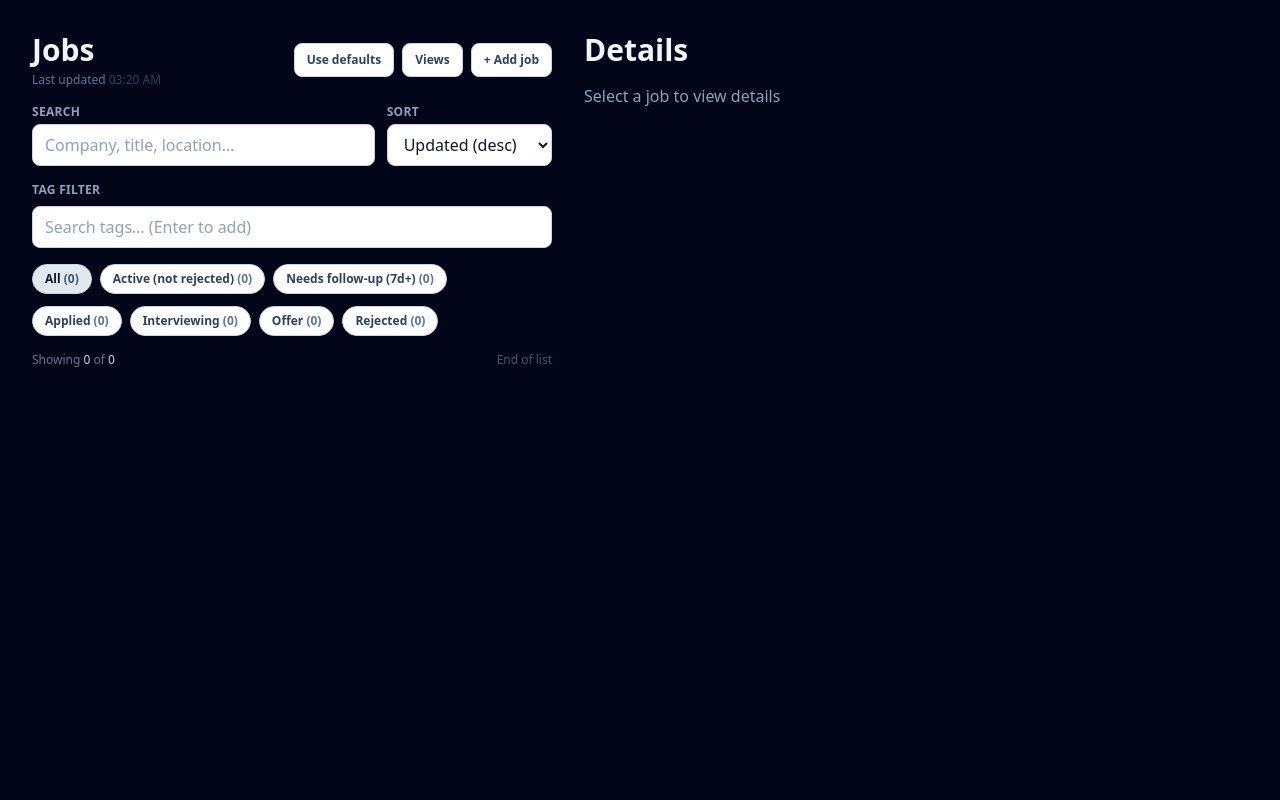
Test case: JobsPage (create job) › shows toast error and keeps modal open on create failure
Click the button "+ Add job".
click(511, 60)  # box x1=471 y1=43 x2=552 y2=77
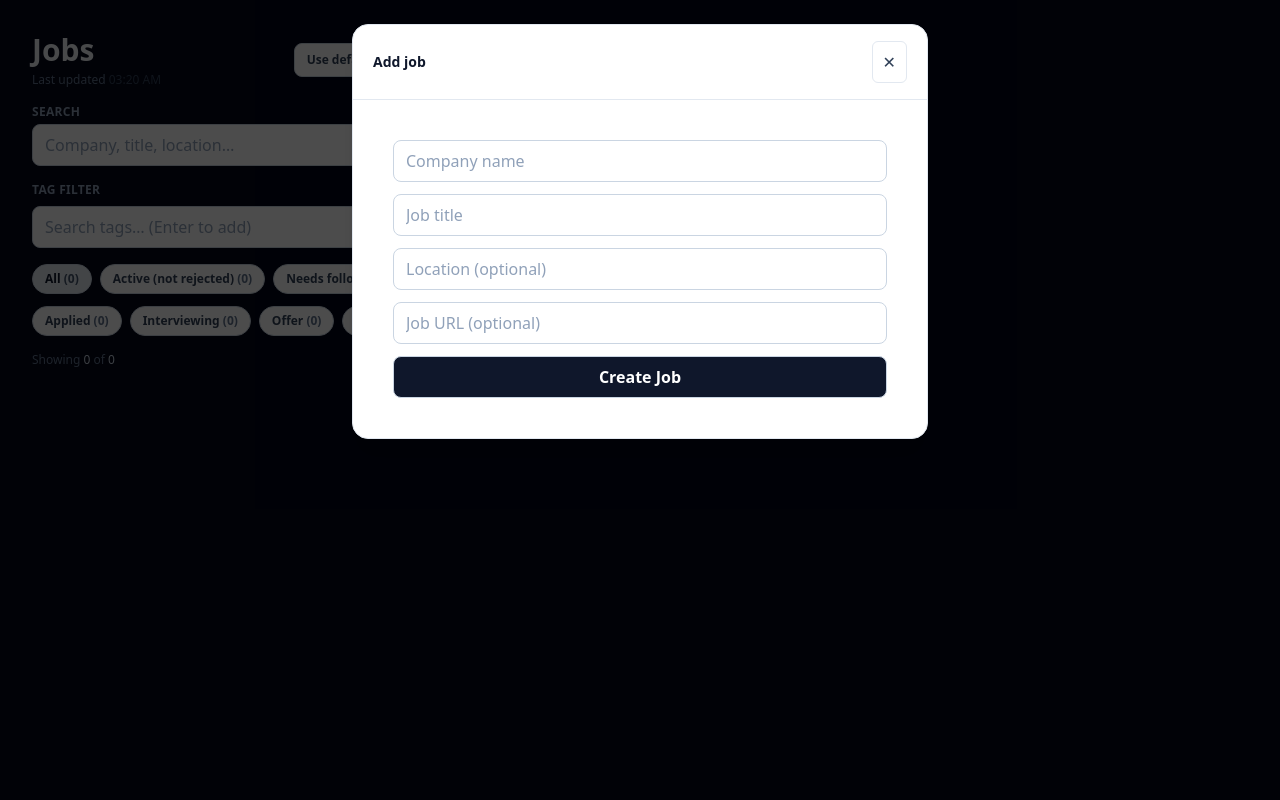
Type "Acme" into the field with placeholder "Company name".
click(640, 161); type("Acme")  # box x1=393 y1=140 x2=887 y2=182
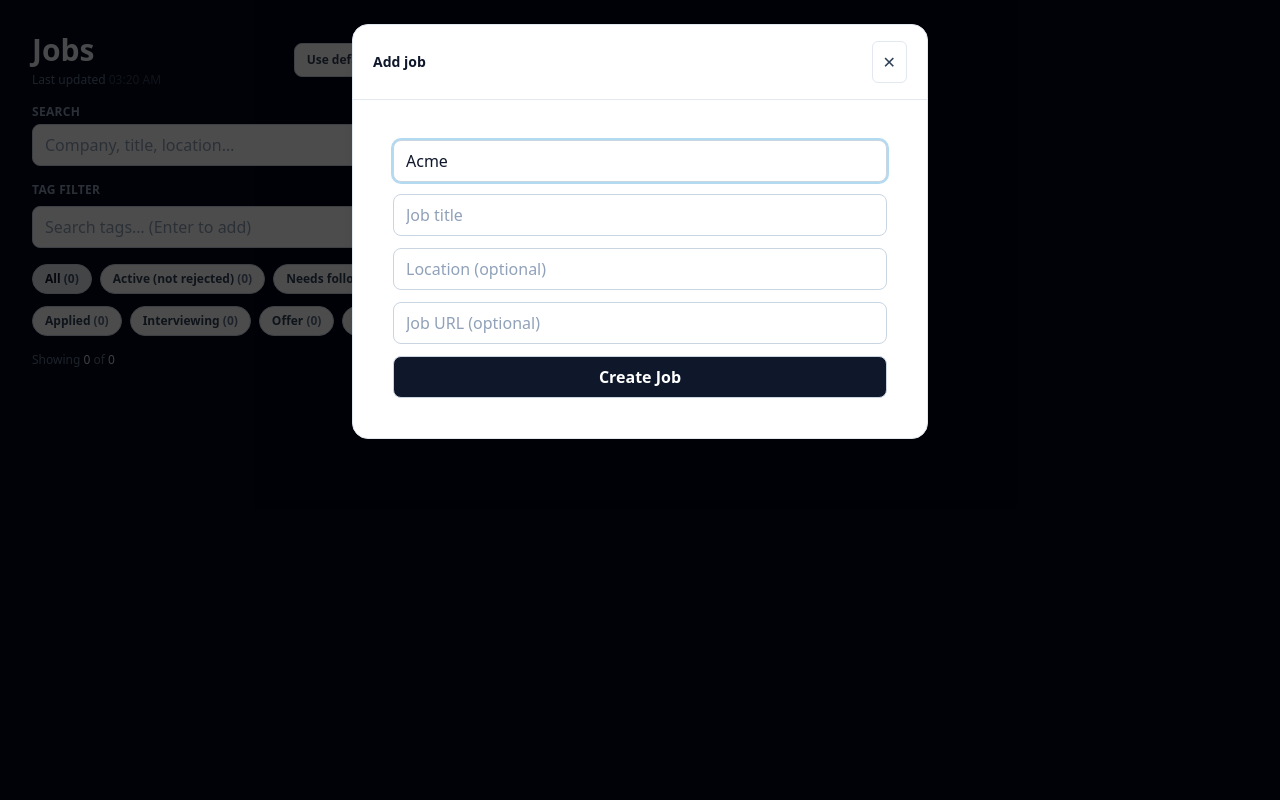
Type "Engineer" into the field with placeholder "Job title".
click(640, 215); type("Engineer")  # box x1=393 y1=194 x2=887 y2=236
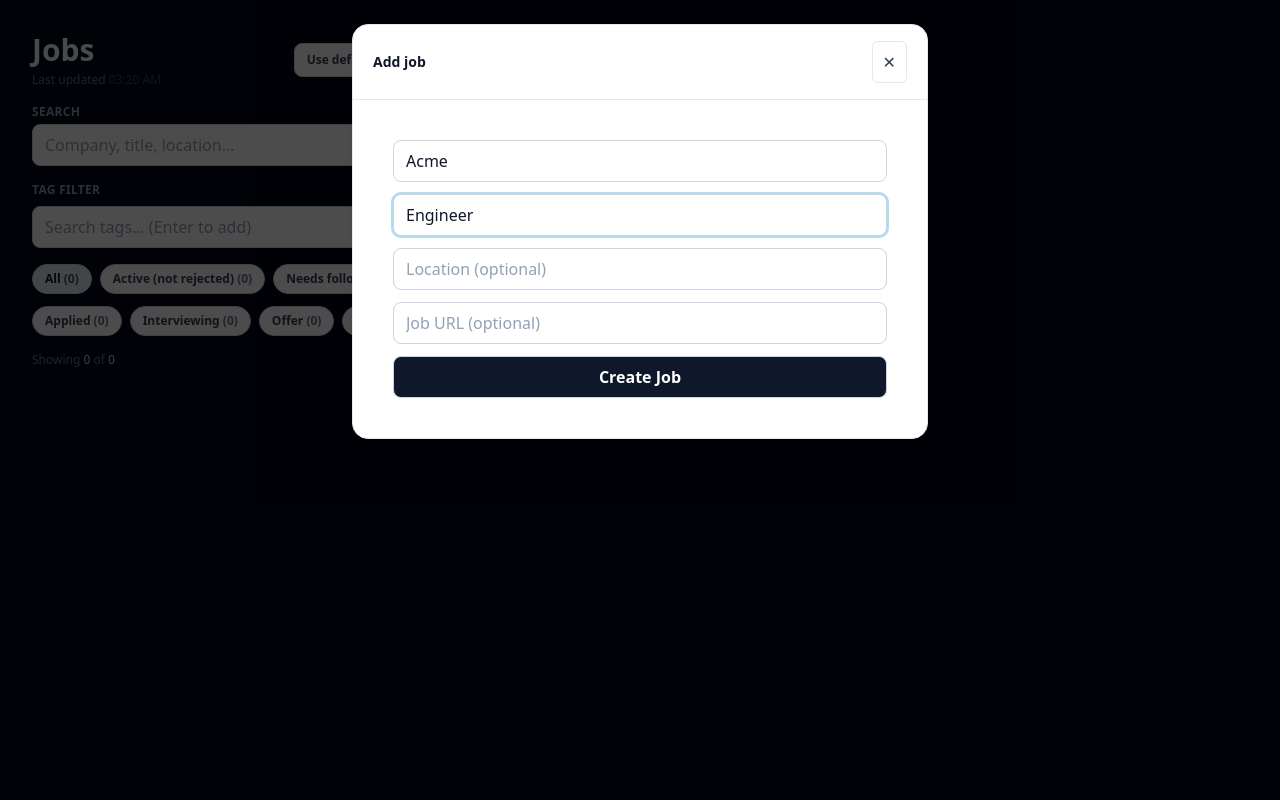
Click the button "Create Job".
click(640, 377)  # box x1=393 y1=356 x2=887 y2=398
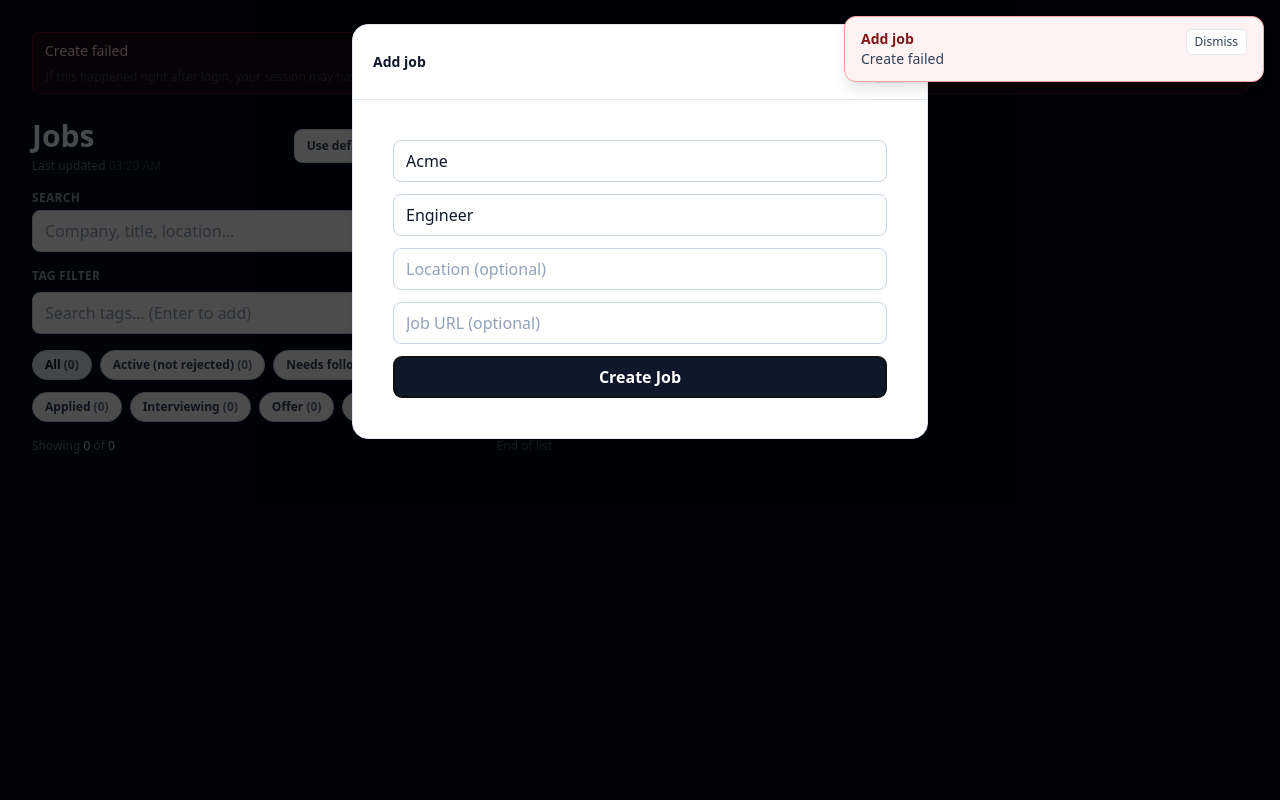
Result: the dialog "Add job" is shown at x1=352 y1=24 x2=928 y2=439
Result: the text "Create failed" is shown at x1=45 y1=41 x2=128 y2=60
